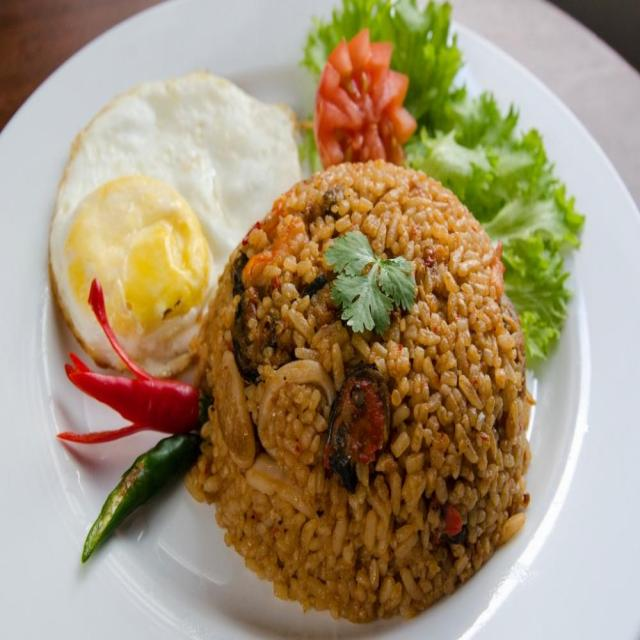Nasi Goreng: (185, 165, 531, 583)
